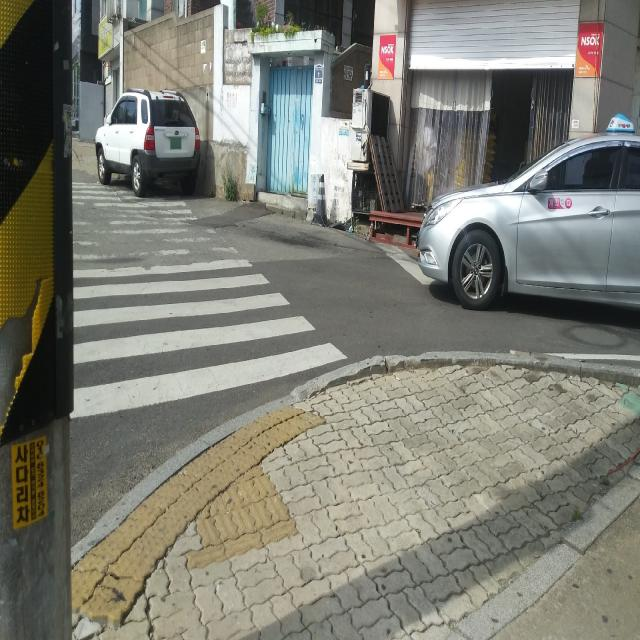횡단보도: (69, 179, 348, 422)
